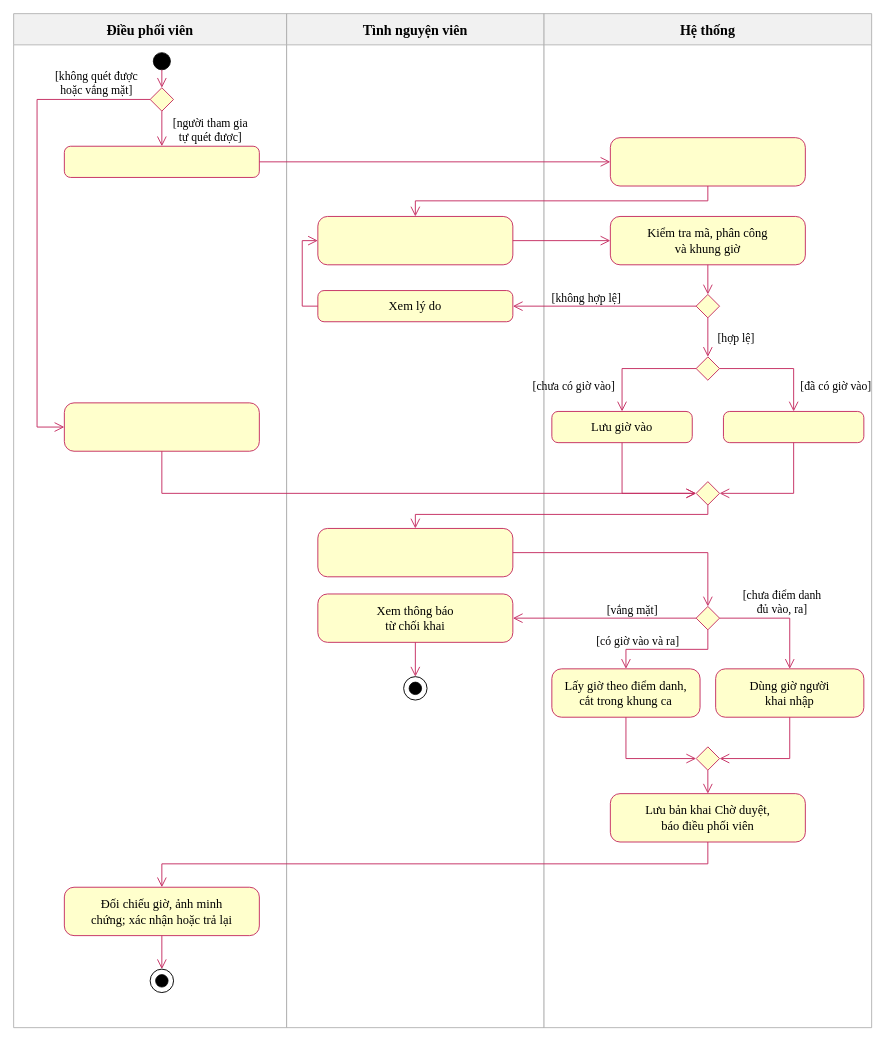
The diagram is 885 pixels wide and 1041 high, and some of its shapes have lost their labels. The shapes that lost their labels are listed below. From the top down, each one's centre as x and y in pixels, then its label:
At [161,161]: "Mở mã QR của ca".
At [707,161]: "Tạo mã theo khóa của ca, đổi mỗi 2 phút".
At [415,240]: "Quét mã hoặc gõ mã chữ".
At [161,426]: "Nhập giờ vào, ra hoặc ghi nhận vắng mặt".
At [793,427]: "Lưu giờ ra".
At [415,552]: "Khi ca kết thúc, mở Khai đóng góp".
